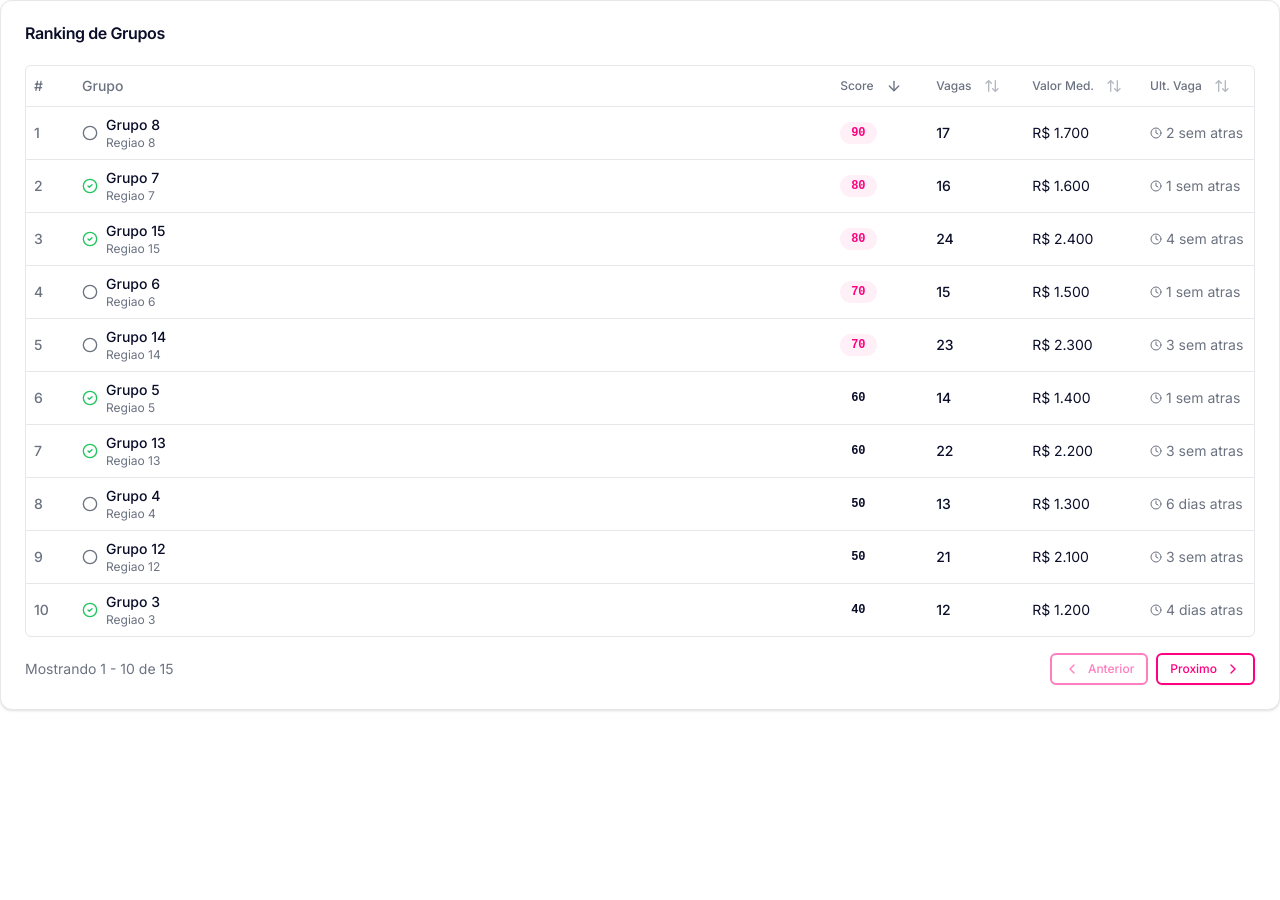
Scenario: GroupsRanking › Paginacao › deve desabilitar botao proximo na ultima pagina
Click the button "Proximo".
click(1206, 668)  # box [1156,652,1255,684]
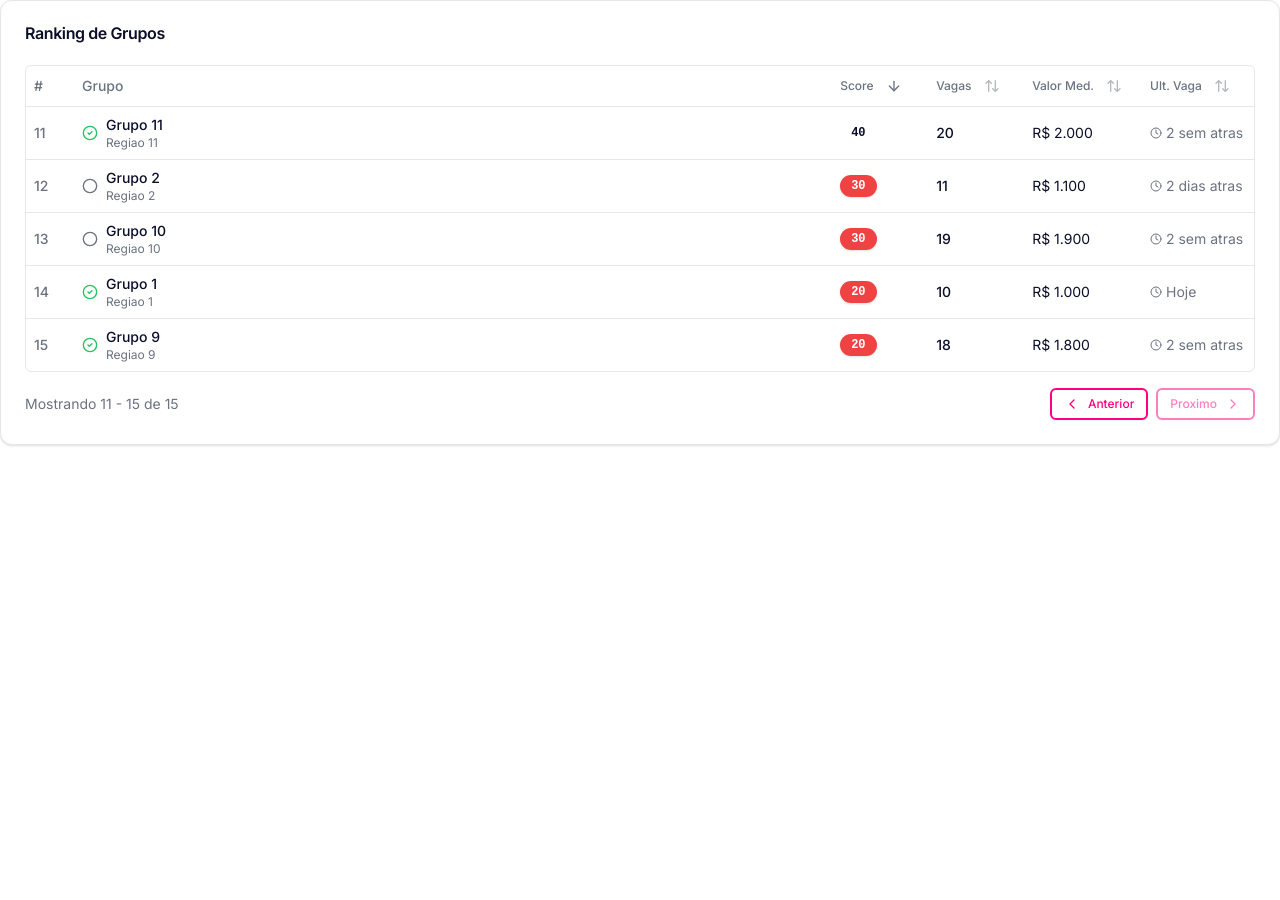
Check: the button "Proximo" is disabled, box [1156,388,1255,420]
